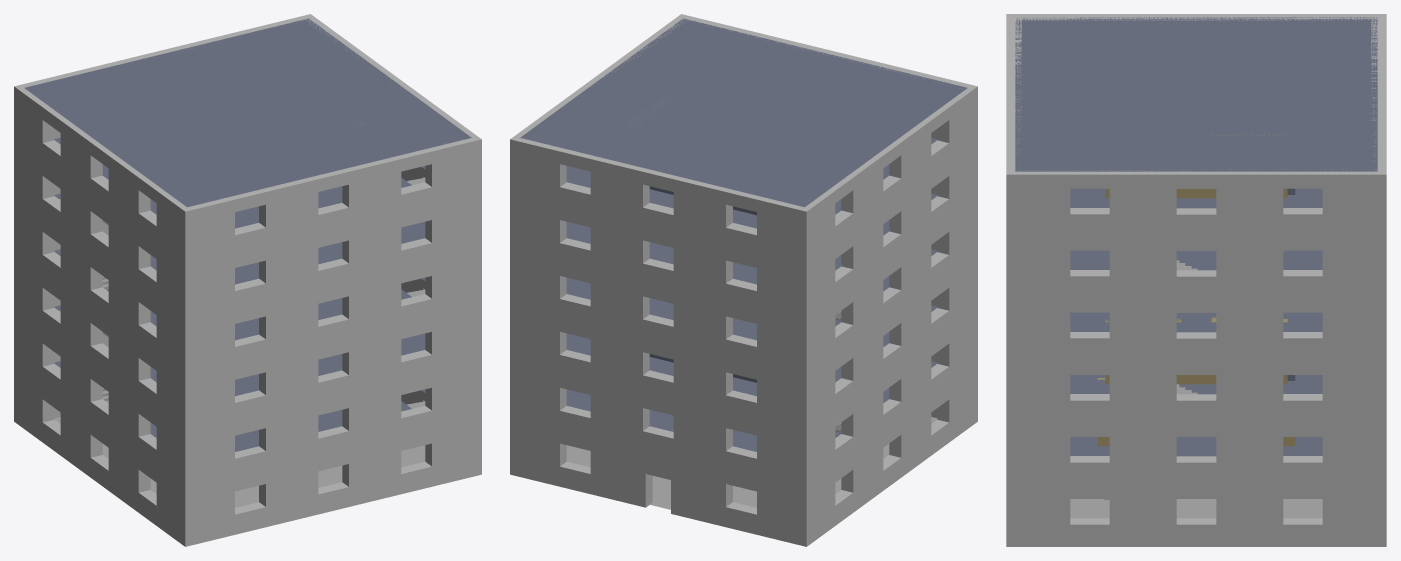
3 renders of one model, left to right at view 1: azimuth 30°, elevation 25°; view 2: azimuth 150°, elevation 25°; view 3: azimuth 270°, elevation 25°, orthographic. The views are drawn at different scales.
Parts seen in each view (by area): view 1: Floor7, Wall43, Wall31, Wall35, Wall39, Wall27, Wall23, Wall44, Wall22, Wall28, Wall40, Wall32 (+11 smaller); view 2: Floor7, Wall45, Wall37, Wall33, Wall41, Wall29, Wall24, Wall44, Wall22, Wall28, Wall32, Wall36 (+12 smaller); view 3: Floor7, Wall42, Wall34, Wall38, Wall30, Wall21, Wall26, Wall43, Wall45, Wall44, Floor, Floor9 (+15 smaller).
Boxes of the visible parts, x1=… form: Floor7: x1=24, y1=18, x2=471, y2=207; Wall43: x1=178, y1=135, x2=481, y2=267; Wall31: x1=178, y1=307, x2=481, y2=434; Wall35: x1=178, y1=251, x2=481, y2=379; Wall39: x1=178, y1=195, x2=481, y2=323; Wall27: x1=178, y1=363, x2=481, y2=490; Wall23: x1=178, y1=420, x2=481, y2=546; Wall44: x1=14, y1=83, x2=197, y2=266; Wall22: x1=14, y1=366, x2=197, y2=546; Wall28: x1=14, y1=310, x2=197, y2=490; Wall40: x1=14, y1=142, x2=197, y2=322; Wall32: x1=14, y1=254, x2=197, y2=434; Floor7: x1=520, y1=18, x2=967, y2=207; Wall45: x1=510, y1=135, x2=813, y2=266; Wall37: x1=510, y1=251, x2=813, y2=378; Wall33: x1=510, y1=307, x2=813, y2=434; Wall41: x1=510, y1=196, x2=813, y2=322; Wall29: x1=510, y1=363, x2=813, y2=490; Wall24: x1=510, y1=421, x2=813, y2=546; Wall44: x1=794, y1=83, x2=977, y2=267; Wall22: x1=794, y1=366, x2=977, y2=546; Wall28: x1=794, y1=311, x2=977, y2=490; Wall32: x1=794, y1=256, x2=977, y2=434; Wall36: x1=794, y1=202, x2=977, y2=379; Floor7: x1=1015, y1=17, x2=1377, y2=171; Wall42: x1=1006, y1=168, x2=1386, y2=236; Wall34: x1=1006, y1=298, x2=1386, y2=360; Wall38: x1=1006, y1=236, x2=1386, y2=298; Wall30: x1=1006, y1=361, x2=1386, y2=422; Wall21: x1=1006, y1=485, x2=1386, y2=546; Wall26: x1=1006, y1=423, x2=1386, y2=484; Wall43: x1=1006, y1=14, x2=1021, y2=236; Wall45: x1=1371, y1=14, x2=1386, y2=236; Wall44: x1=1006, y1=14, x2=1386, y2=20; Floor: x1=1070, y1=499, x2=1322, y2=518; Floor9: x1=1070, y1=250, x2=1322, y2=270.
Size of the model in its own units: 25 by 27.01 by 25.
